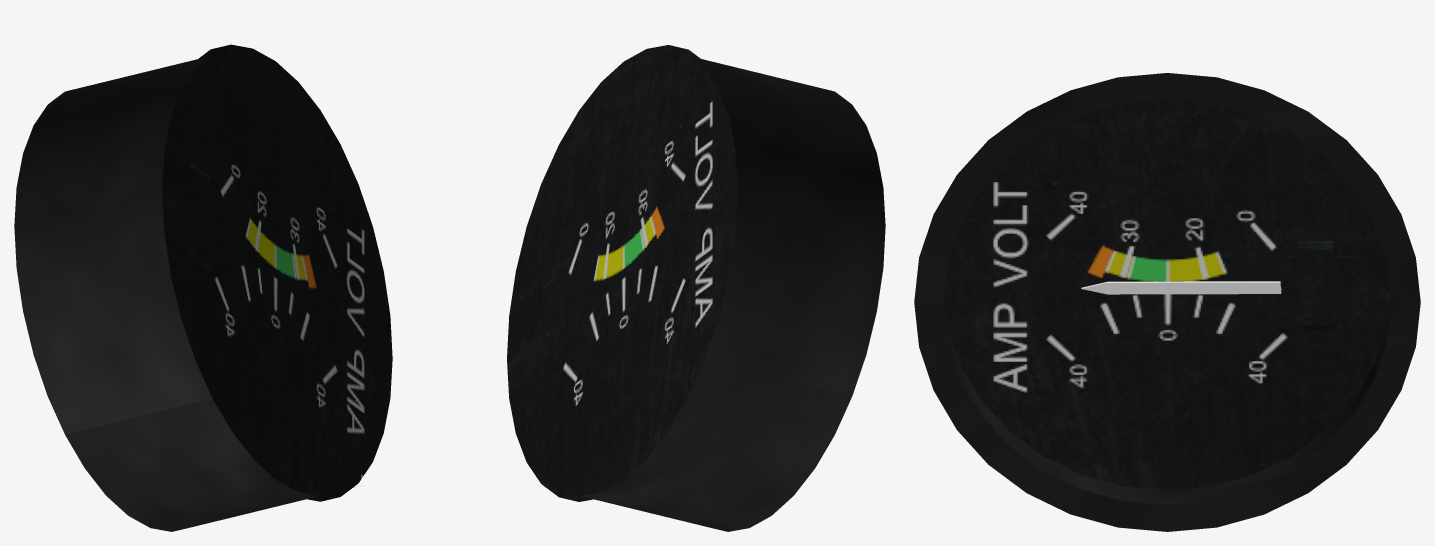
The model's file is battery-gauge.gltf.
3 renders of one model, left to right at view 1: azimuth 30°, elevation 25°; view 2: azimuth 150°, elevation 25°; view 3: azimuth 270°, elevation 25°, orthographic.
Visible parts, largest first — view 1: Face, batt; view 2: Face, batt; view 3: Face, batt, Ptr, PtrTip.
Part boxes in pixels (x1=…): Face: x1=162, y1=44, x2=392, y2=501; batt: x1=14, y1=55, x2=321, y2=531; Face: x1=507, y1=45, x2=737, y2=501; batt: x1=578, y1=55, x2=885, y2=531; Face: x1=944, y1=99, x2=1390, y2=490; batt: x1=914, y1=73, x2=1420, y2=531; Ptr: x1=1280, y1=241, x2=1380, y2=329; PtrTip: x1=1081, y1=281, x2=1281, y2=294.
Bounding box in the file's own units: 0.0176 × 0.0441 × 0.0441.
2 materials, 1 textured.
